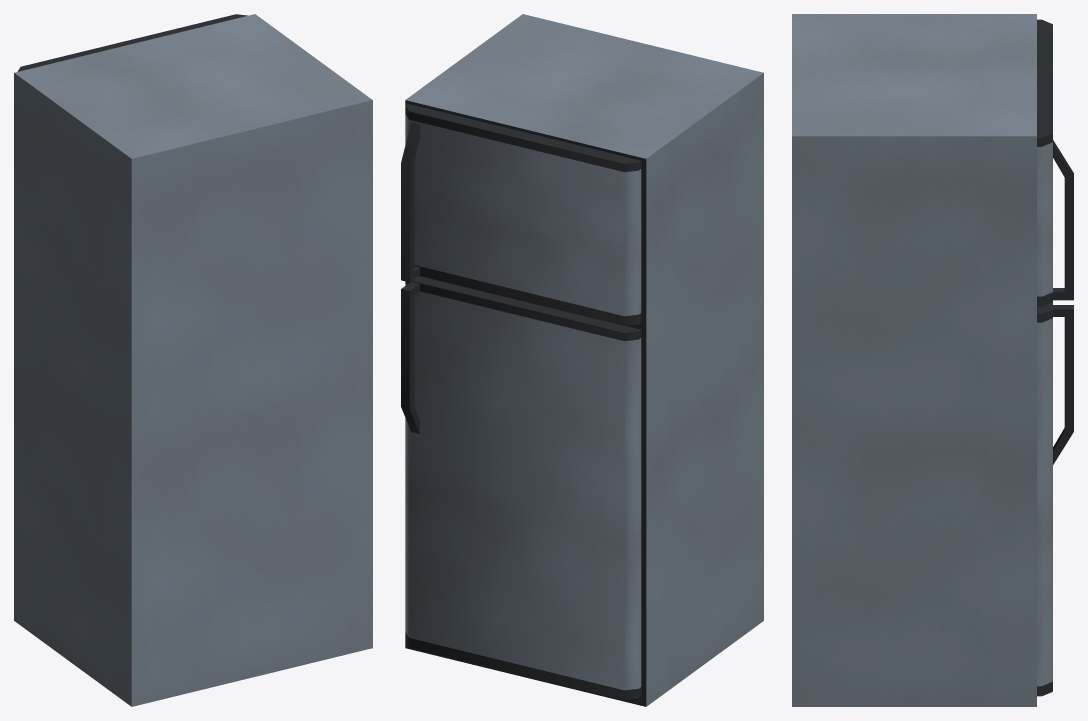
File: heladera.fbx
3 views of the same model, side by side, from view 1: azimuth 30°, elevation 25°; view 2: azimuth 150°, elevation 25°; view 3: azimuth 270°, elevation 25° (orthographic). The views are drawn at different scales.
Visible parts, largest first — view 1: Refrigerator, Refrigerator_door; view 2: Refrigerator, Refrigerator_door; view 3: Refrigerator, Refrigerator_door.
Boxes of the visible parts, x1,y1,x2,y2 form: Refrigerator: (14, 14, 372, 706); Refrigerator_door: (17, 14, 247, 71); Refrigerator: (401, 14, 763, 706); Refrigerator_door: (401, 103, 641, 325); Refrigerator: (792, 14, 1073, 706); Refrigerator_door: (1037, 19, 1073, 306).
Bounding box in the file's own units: 96.12 × 209 × 93.52.
